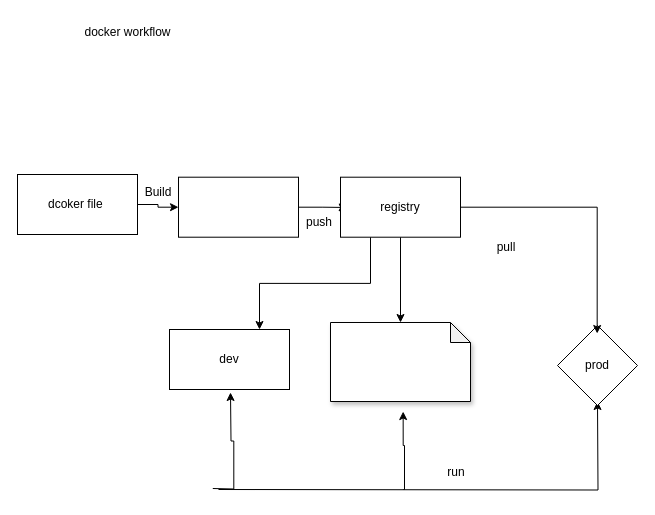
The diagram is 655 pixels wide and 515 high, and some of its shapes have lost their labels. The centre of each missing label's shape, as x and y in pixels:
"dokcer image" goes at pixel 238 206.
"test" goes at pixel 401 363.
